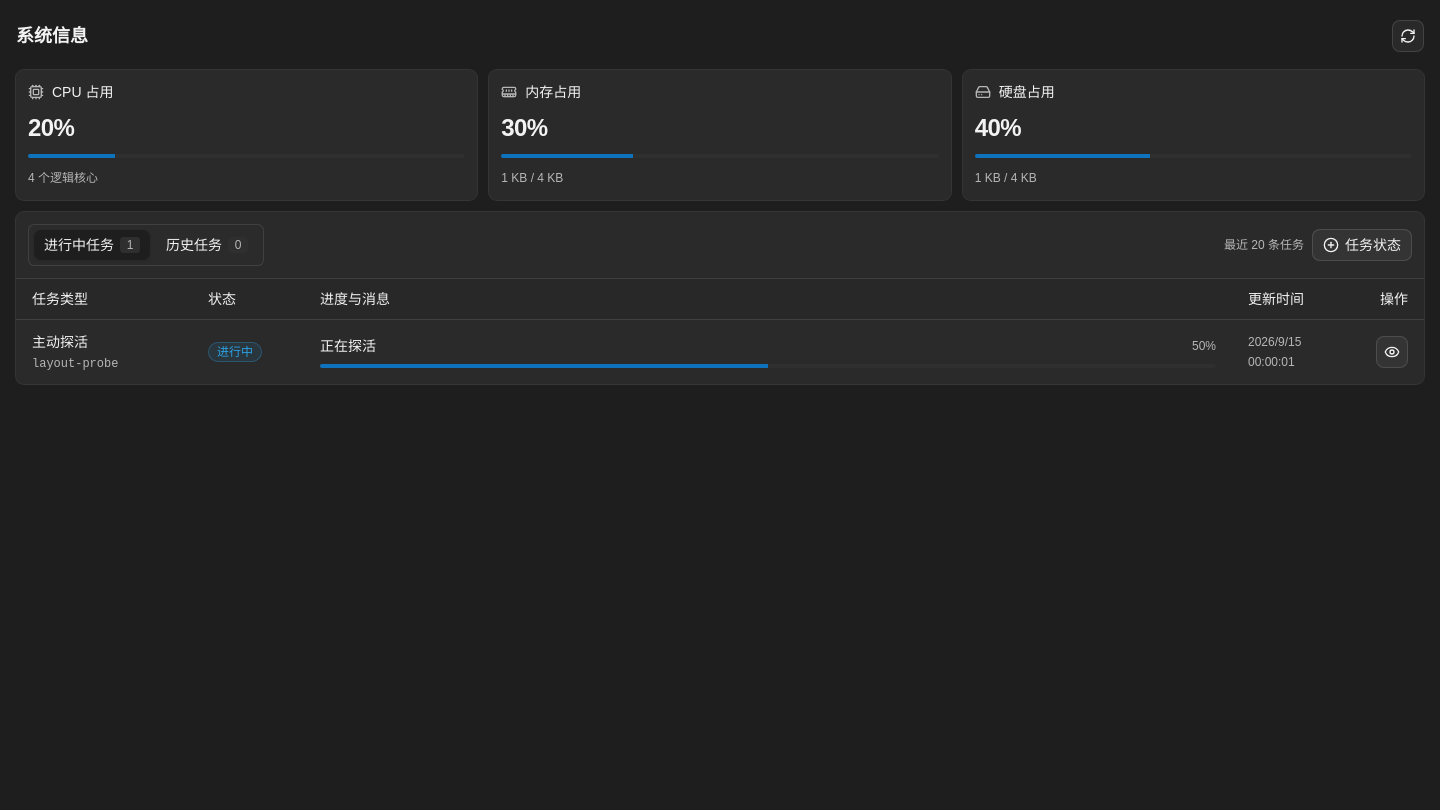
筛选没有匹配任务时说明筛选结果并允许直接清除筛选
Click the button with aria-label "任务状态筛选" at (1362, 245), box [1312,229,1412,261]
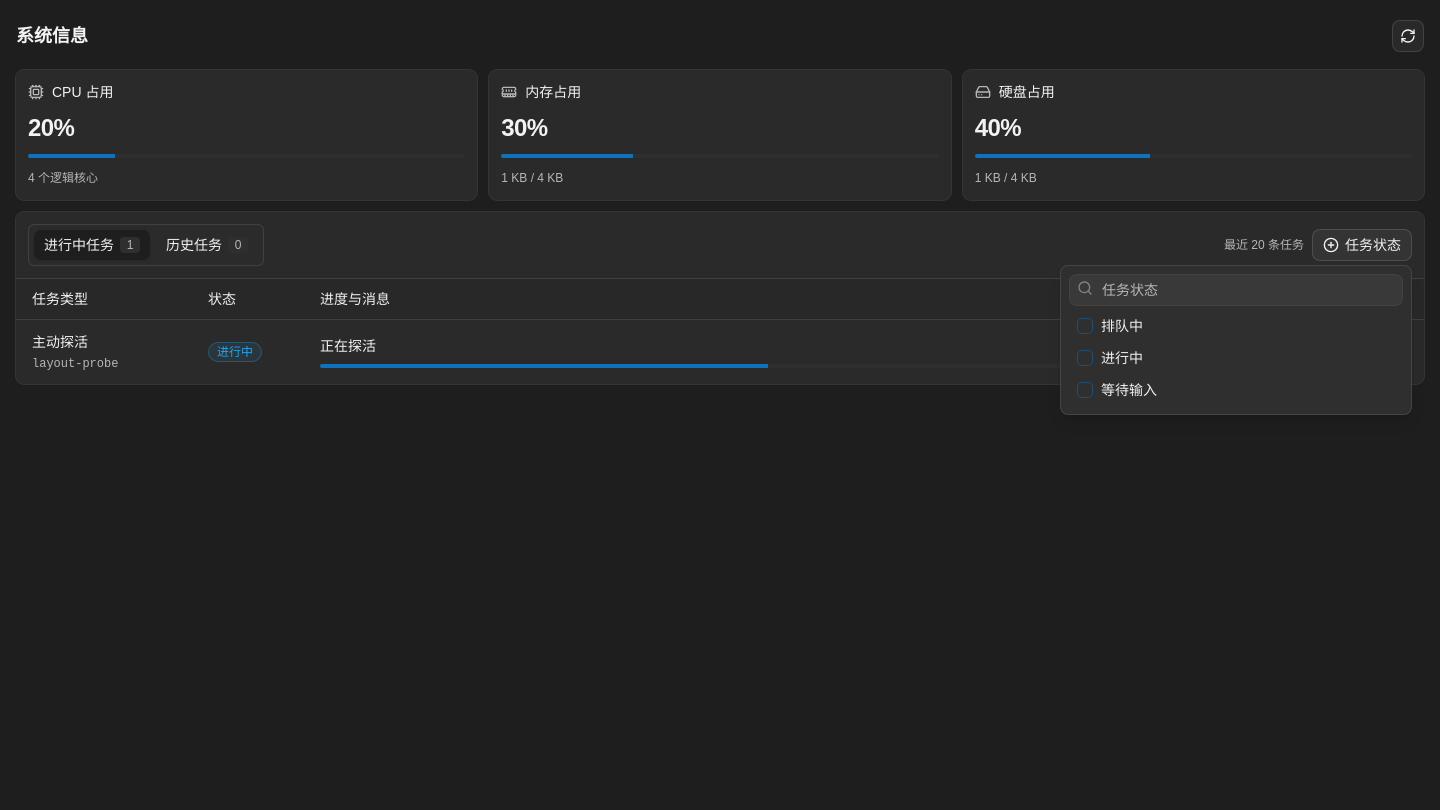
Click the option "排队中" at (1122, 326), box [1069,310,1403,342]
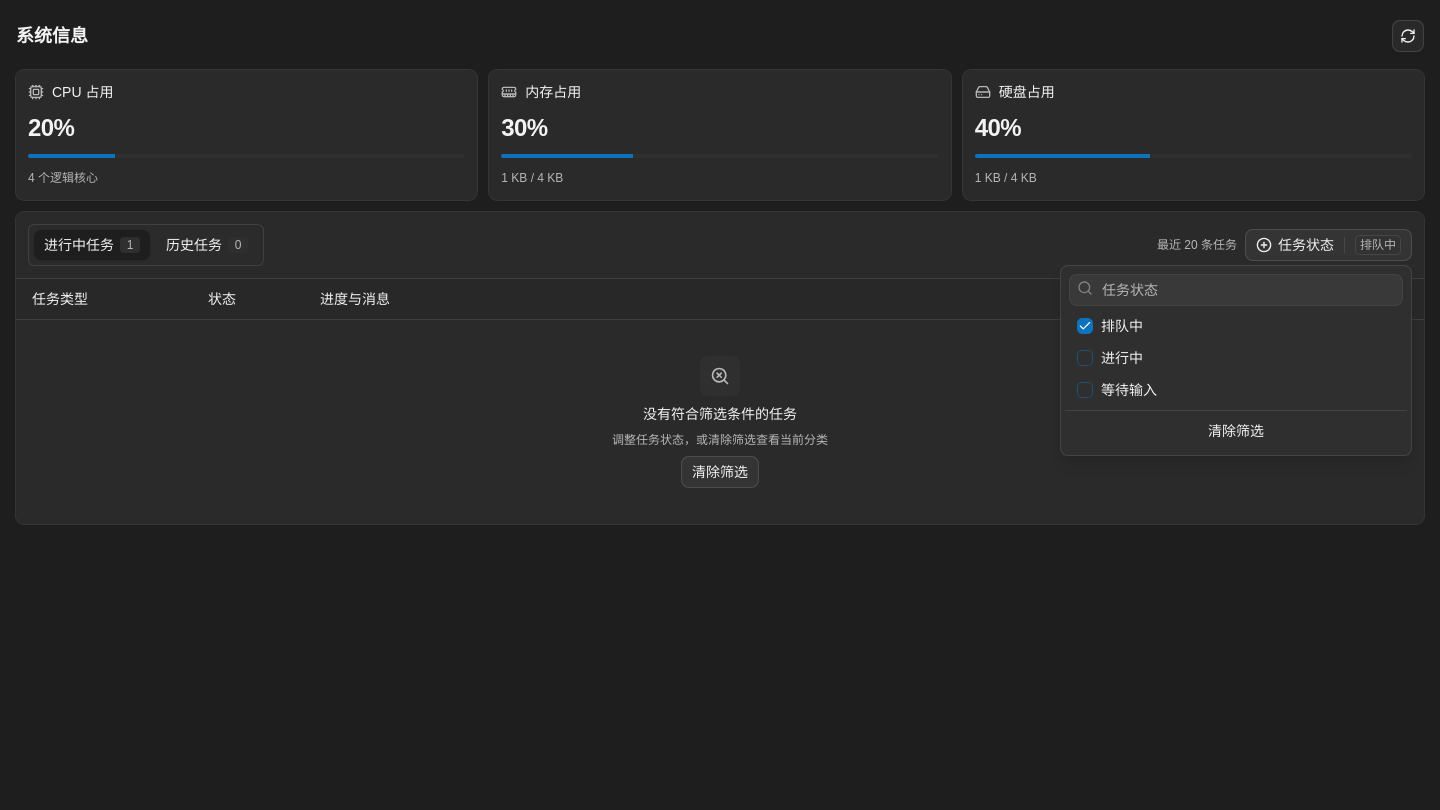
Press Escape
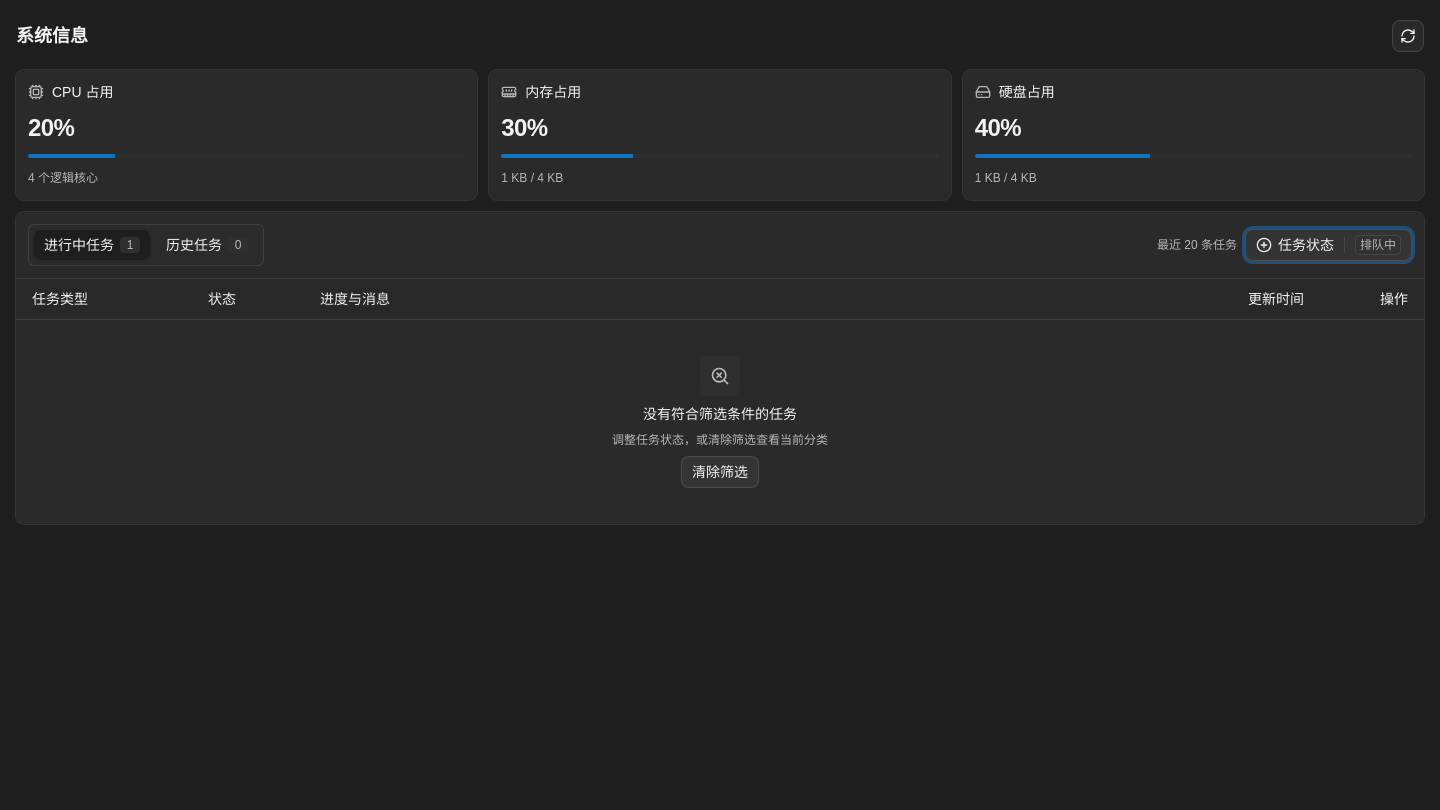
Expected: the text "没有符合筛选条件的任务" is shown, [643,404,797,424]
Click the button "清除筛选" at (720, 472), box [681,456,759,488]
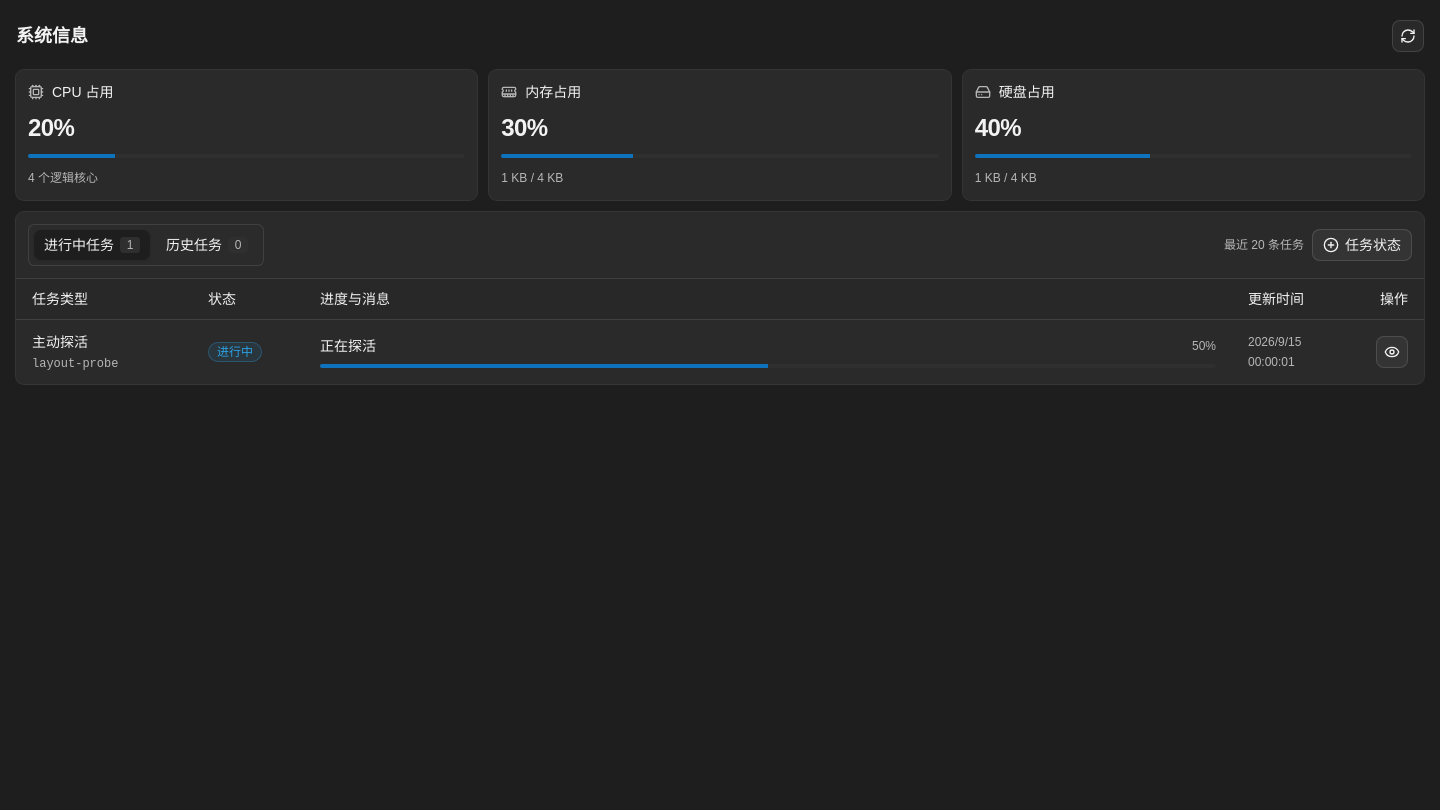
Expected: the text "正在探活" is shown, [320,338,376,354]
